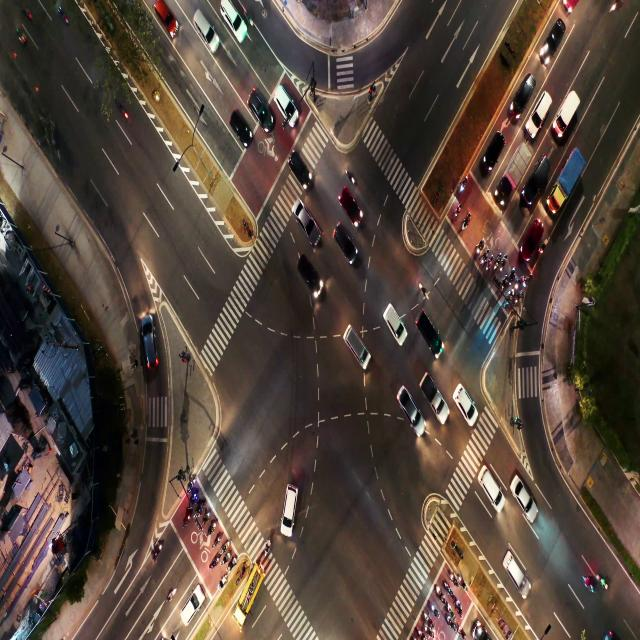bus: (245, 582, 253, 604)
car: (138, 312, 164, 365), (283, 484, 299, 543), (422, 320, 444, 358), (345, 328, 367, 358), (194, 12, 215, 42), (225, 8, 247, 36), (401, 390, 418, 426), (516, 486, 535, 516), (289, 158, 312, 182), (388, 302, 402, 340), (341, 228, 354, 264), (254, 91, 267, 126), (188, 584, 202, 616), (548, 24, 564, 52), (158, 2, 175, 28), (232, 109, 246, 140), (278, 88, 292, 119), (529, 221, 542, 253), (298, 208, 313, 233), (345, 189, 358, 216), (512, 560, 524, 588), (535, 97, 549, 121), (483, 474, 498, 496), (517, 85, 532, 106), (301, 260, 314, 281), (536, 163, 547, 186), (458, 387, 466, 412), (489, 140, 499, 160)
motorcycle: (420, 283, 429, 302), (265, 538, 272, 557), (155, 538, 162, 556), (346, 169, 354, 184), (218, 574, 226, 588), (460, 575, 467, 589), (436, 590, 444, 602), (507, 289, 512, 305), (540, 243, 546, 255), (450, 620, 457, 630), (426, 614, 433, 624), (445, 584, 451, 595), (220, 545, 228, 553), (210, 558, 217, 567), (186, 513, 192, 523), (204, 512, 210, 522), (460, 180, 465, 192), (495, 256, 500, 268), (417, 628, 423, 638), (516, 292, 520, 306), (525, 275, 530, 286), (449, 608, 455, 617), (432, 605, 438, 614), (456, 205, 460, 218), (518, 278, 522, 291), (457, 601, 461, 614), (479, 241, 484, 251), (187, 481, 195, 487), (464, 215, 468, 227), (425, 627, 431, 635), (169, 590, 174, 599), (502, 278, 506, 289), (452, 573, 456, 584), (214, 537, 220, 544), (222, 556, 228, 563), (488, 258, 492, 268), (483, 250, 486, 262), (460, 630, 466, 636), (209, 525, 214, 532), (197, 506, 201, 514), (192, 495, 196, 502), (503, 258, 506, 267), (512, 269, 515, 276), (230, 561, 232, 568)
truck: (430, 388, 449, 422), (512, 154, 525, 187), (564, 160, 578, 187), (563, 95, 575, 122)
